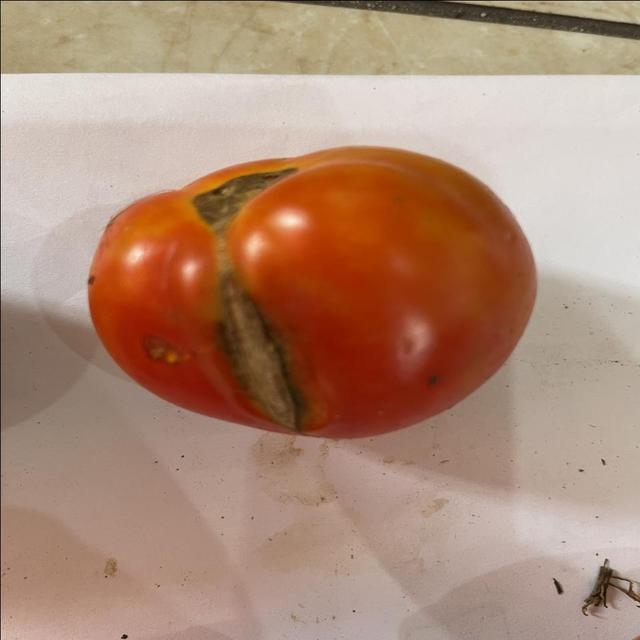Cracking Fruit: (131, 179, 210, 288)
